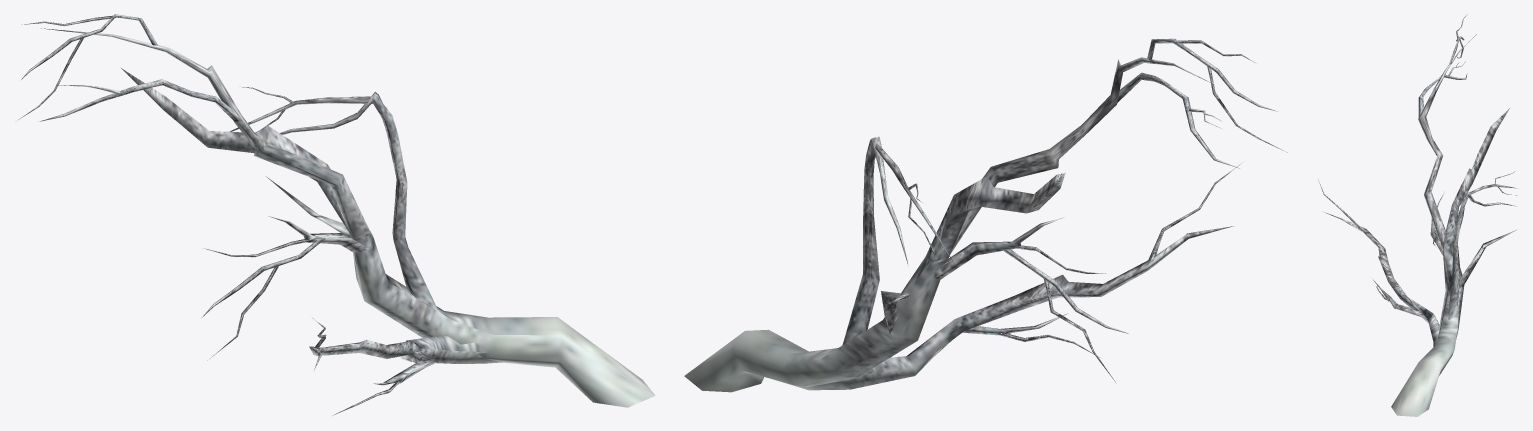
Rendered from S_Tree_White019.FBX.
The picture shows the model from 3 angles, left to right: view 1: azimuth 30°, elevation 25°; view 2: azimuth 150°, elevation 25°; view 3: azimuth 270°, elevation 25°; orthographic projection. The views are drawn at different scales.
Visible parts, largest first — view 1: S_Tree_White019; view 2: S_Tree_White019; view 3: S_Tree_White019.
Boxes of the visible parts, x1,y1,x2,y2 form: S_Tree_White019: (18,14,655,415); S_Tree_White019: (684,38,1287,392); S_Tree_White019: (1318,14,1516,416).
Size of the model in its own units: 959 by 521 by 716.
